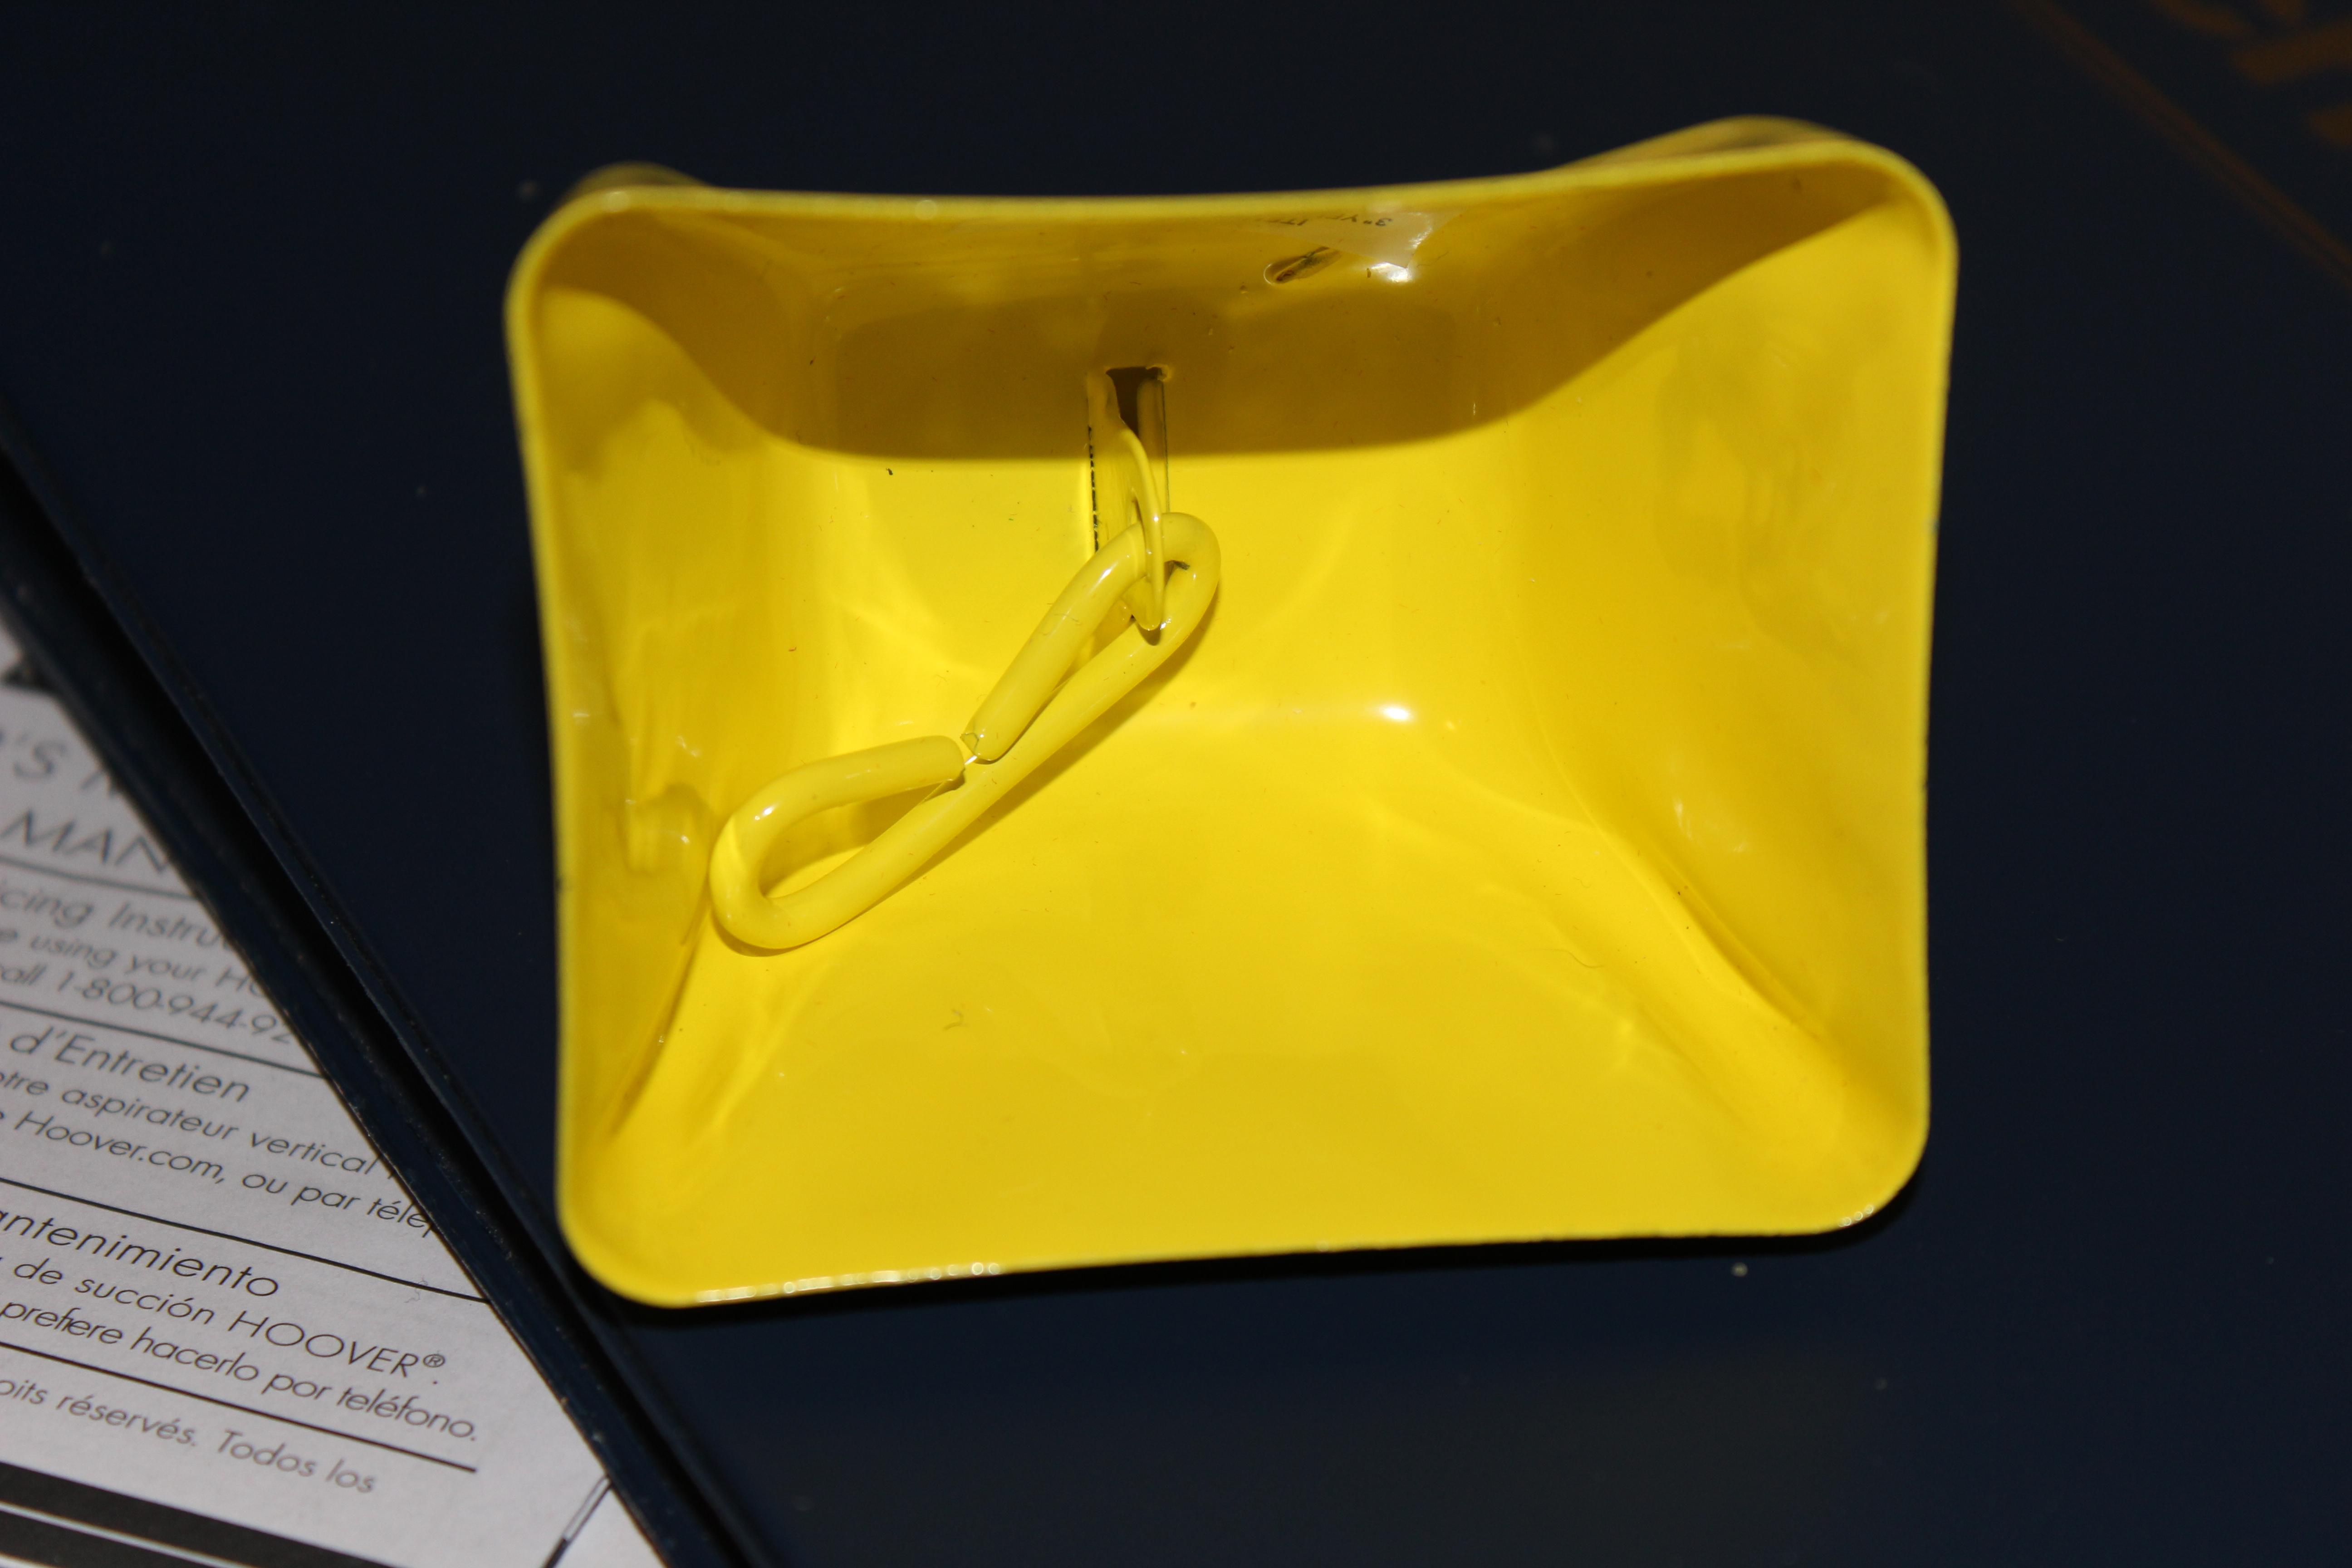cowbell: (458, 114, 2025, 1335)
